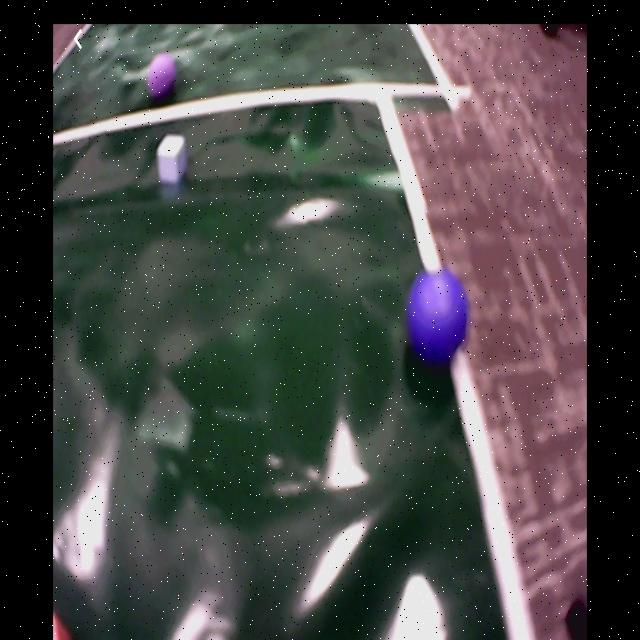ball: (409, 269, 471, 360), (148, 54, 179, 98)
